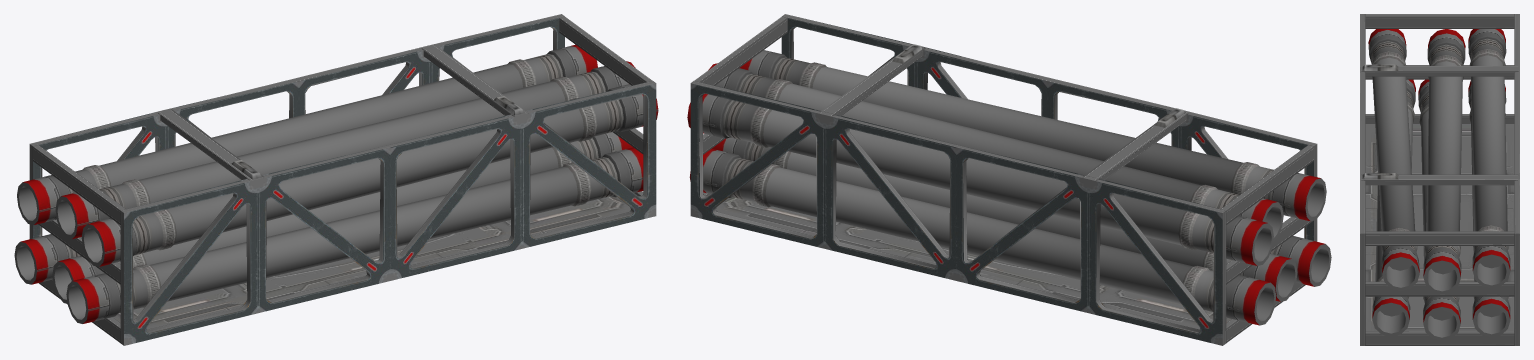
File: sf_pipe_rack.glb
The picture shows the model from 3 angles, left to right: view 1: azimuth 30°, elevation 25°; view 2: azimuth 150°, elevation 25°; view 3: azimuth 270°, elevation 25°; orthographic projection. The views are drawn at different scales.
Visible parts, largest first — view 1: Prop_PipeHolder; view 2: Prop_PipeHolder; view 3: Prop_PipeHolder.
Boxes of the visible parts, x1=… form: Prop_PipeHolder: x1=14, y1=14, x2=658, y2=345; Prop_PipeHolder: x1=687, y1=14, x2=1331, y2=345; Prop_PipeHolder: x1=1360, y1=14, x2=1519, y2=345.
Size of the model in its own units: 4.12 by 0.9274 by 1.16.
3 materials, 3 textured.
